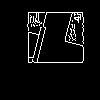I: (25, 25, 50, 73)
